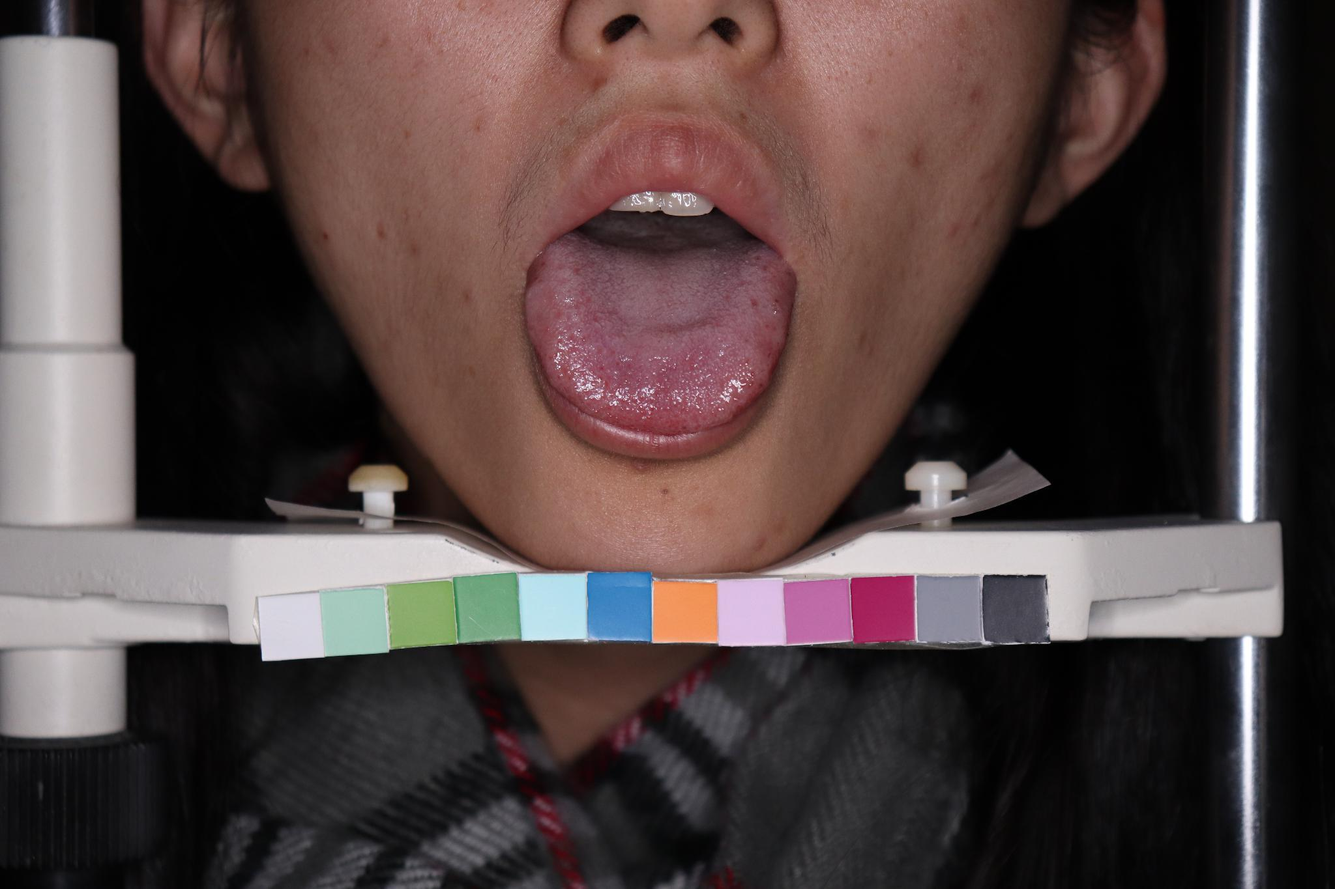baitaishe: (525, 208, 795, 435)
hongdianshe: (747, 297, 758, 309), (743, 357, 752, 368), (538, 258, 548, 267), (598, 362, 606, 373), (753, 251, 761, 262), (755, 380, 764, 389), (772, 296, 780, 305)
piweiao: (606, 285, 720, 344)
